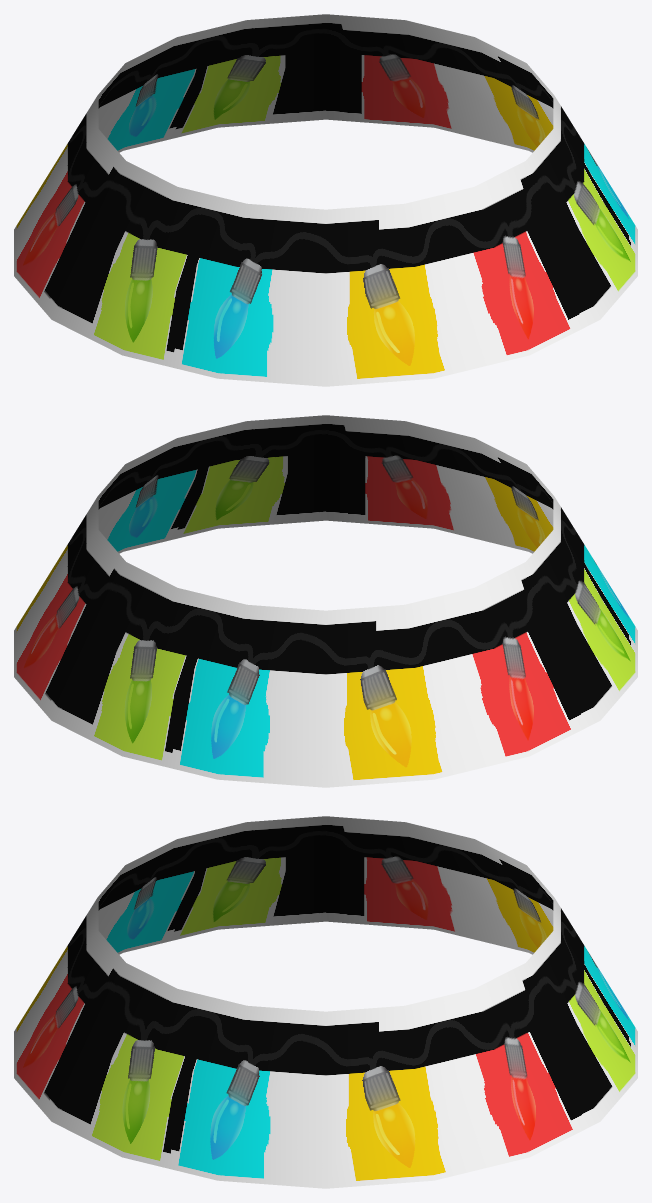
Rendered from Guirlande.FBX.
The picture shows the model from 3 angles, top to bottom: view 1: azimuth 30°, elevation 25°; view 2: azimuth 150°, elevation 25°; view 3: azimuth 270°, elevation 25°; orthographic projection.
Parts seen in each view (by area): view 1: Guirlande; view 2: Guirlande; view 3: Guirlande.
Part boxes in pixels (<box>): Guirlande: <box>14,14,637,386</box>; Guirlande: <box>14,415,637,787</box>; Guirlande: <box>14,816,637,1188</box>.
Bounding box in the file's own units: 286 × 70.01 × 281.
Materials: 1 (1 with a texture image).
